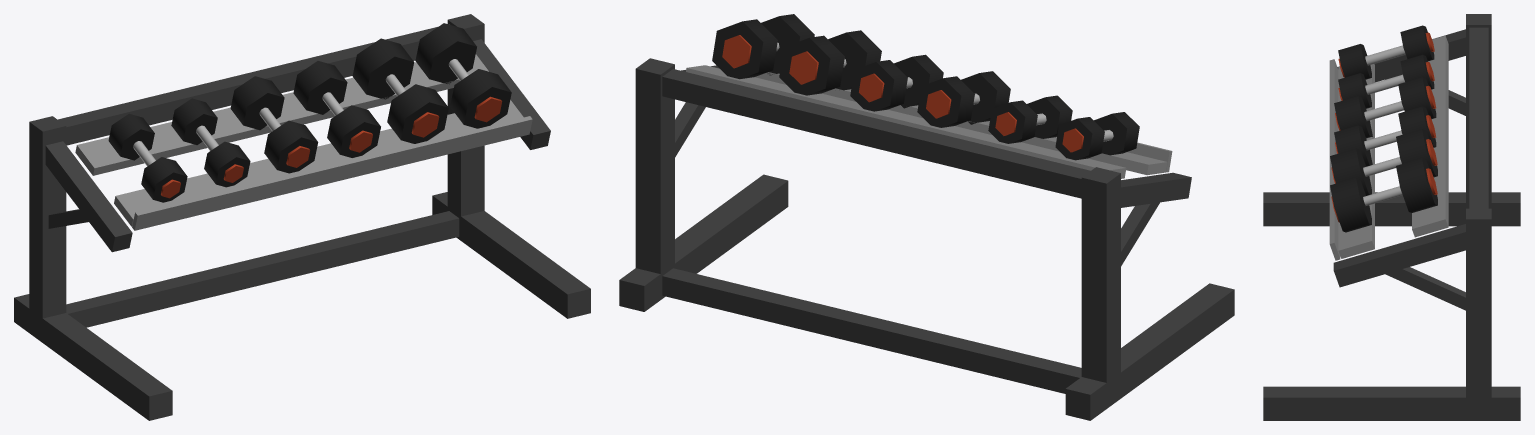
File: Dumbbell_Rack_Standard.fbx
3 renders of one model, left to right at view 1: azimuth 30°, elevation 25°; view 2: azimuth 150°, elevation 25°; view 3: azimuth 270°, elevation 25°, orthographic. The views are drawn at different scales.
Parts seen in each view (by area): view 1: Dumbbell_Rack_Standard; view 2: Dumbbell_Rack_Standard; view 3: Dumbbell_Rack_Standard.
Boxes of the visible parts, x1,y1,x2,y2 form: Dumbbell_Rack_Standard: (14, 14, 590, 420); Dumbbell_Rack_Standard: (619, 14, 1234, 420); Dumbbell_Rack_Standard: (1263, 14, 1520, 420).
Bounding box in the file's own units: 151 × 79.91 × 80.
